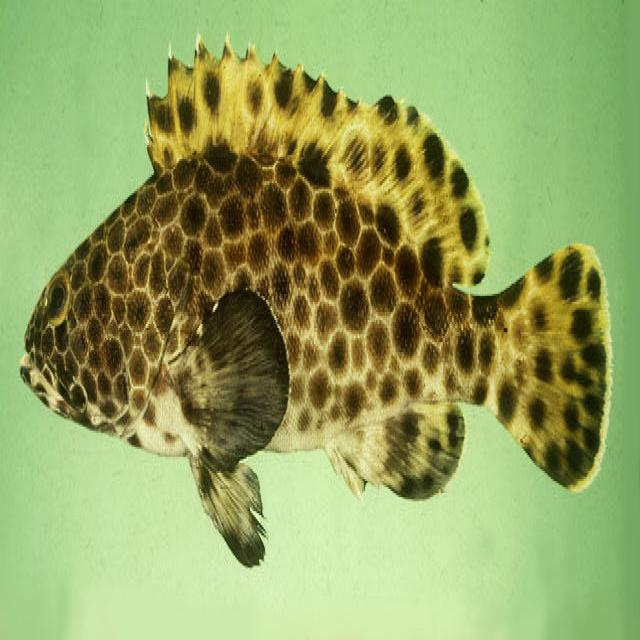ikan: (19, 32, 613, 568)
